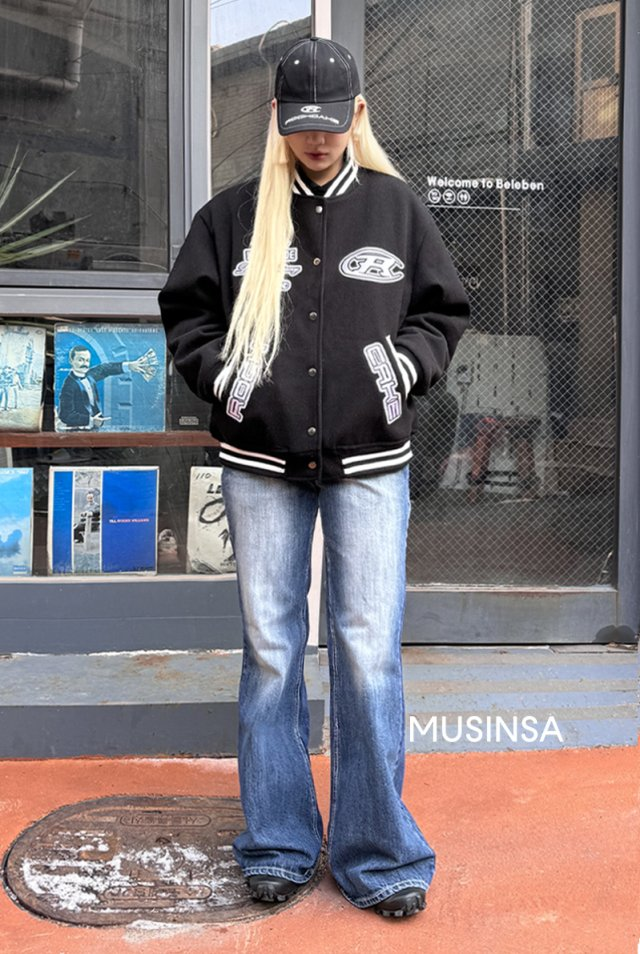Cap: (270, 38, 362, 134)
Jeans: (222, 466, 435, 890)
Outer: (178, 166, 468, 470)
Shoes: (241, 849, 439, 930)
